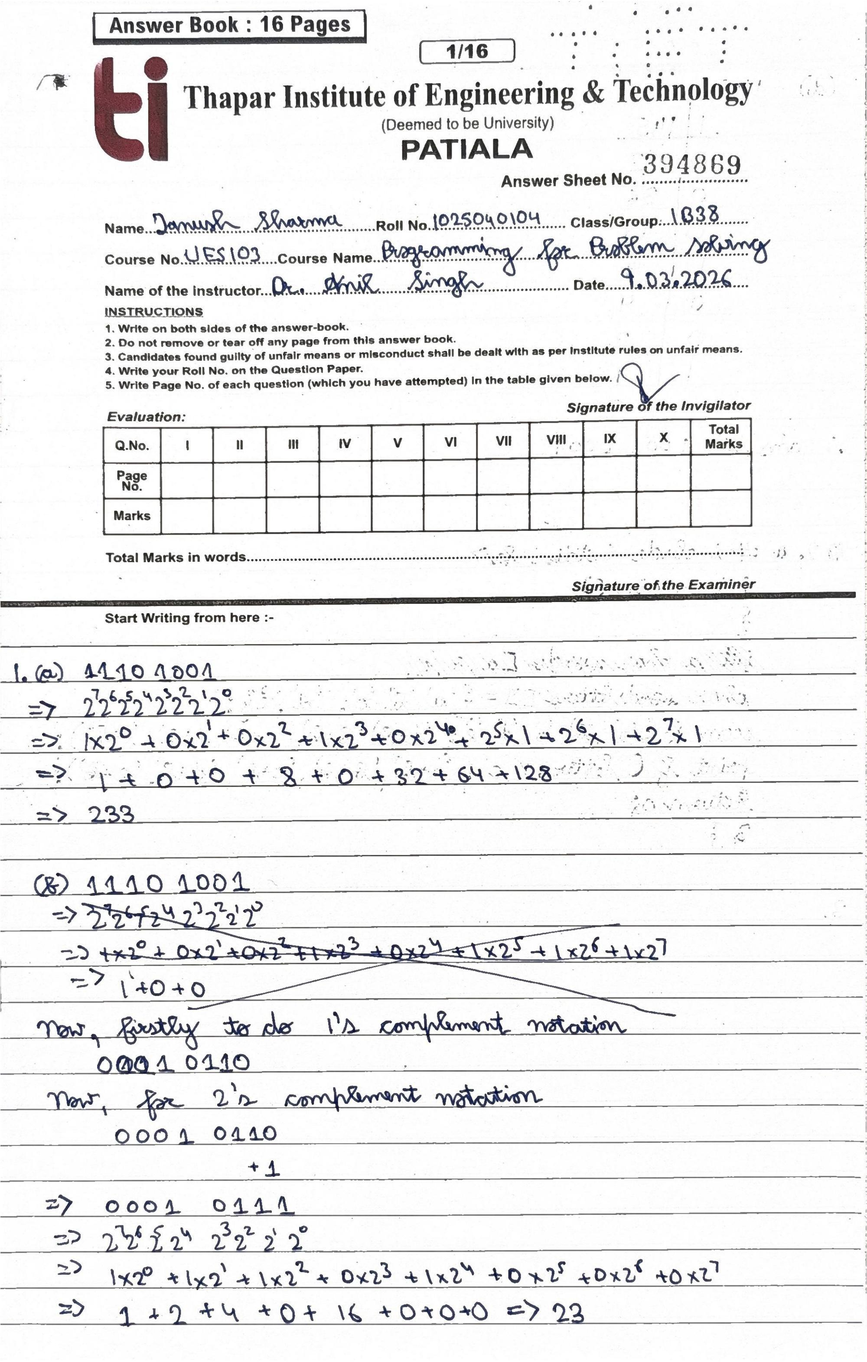cuttings: (79, 898, 687, 1024)
